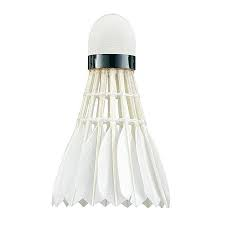shuttle: (57, 7, 175, 209)
